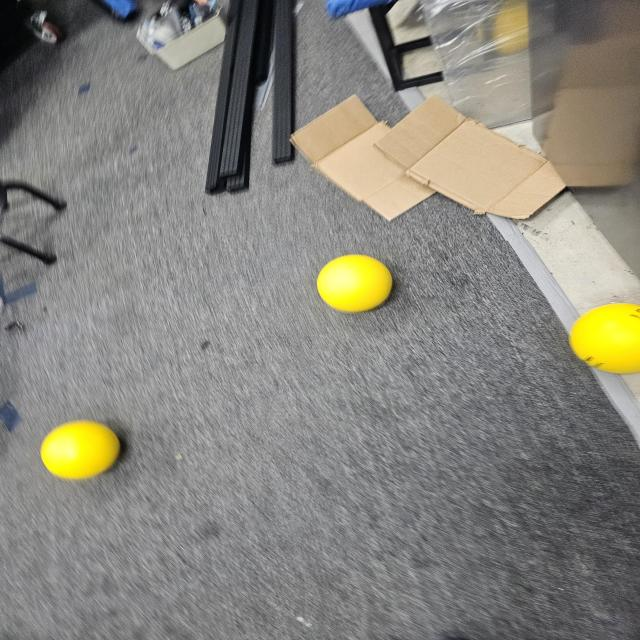Fuel: (552, 296, 640, 379), (34, 417, 127, 484), (309, 249, 399, 317)
